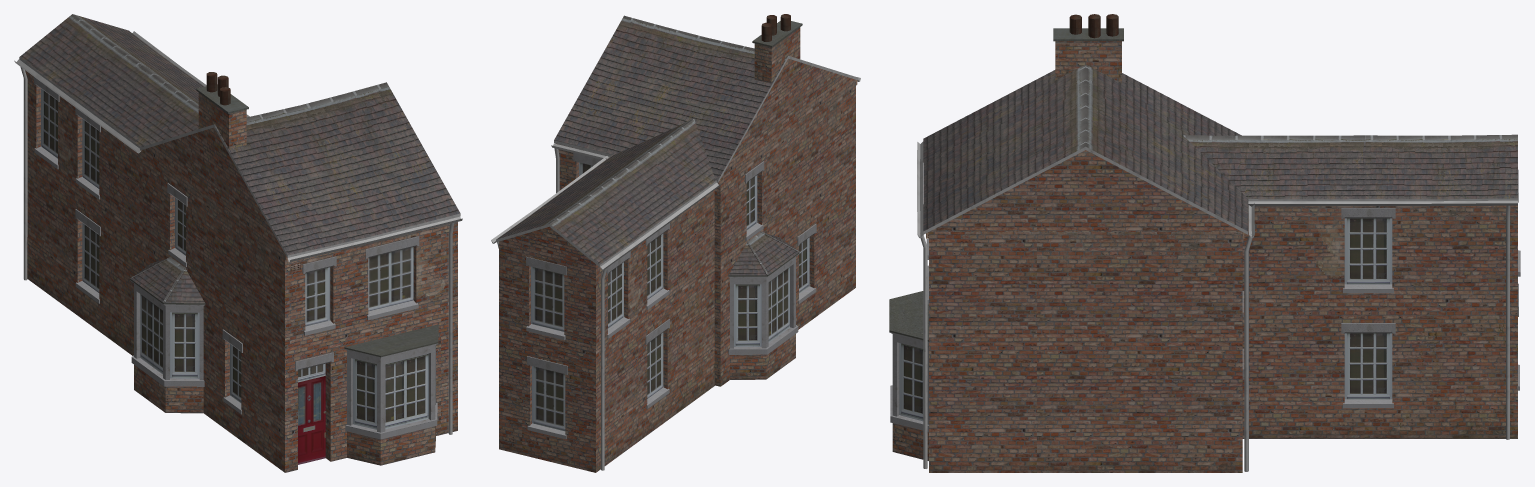
File: ukterracedvictorianc4.FBX
3 views of the same model, side by side, from view 1: azimuth 30°, elevation 25°; view 2: azimuth 150°, elevation 25°; view 3: azimuth 270°, elevation 25° (orthographic). The views are drawn at different scales.
Visible parts, largest first — view 1: Object003; view 2: Object003; view 3: Object003.
Boxes of the visible parts, x1,y1,x2,y2 form: Object003: (14, 14, 462, 472); Object003: (491, 14, 860, 472); Object003: (889, 14, 1520, 472).
Size of the model in its own units: 662 by 1045 by 1611.
